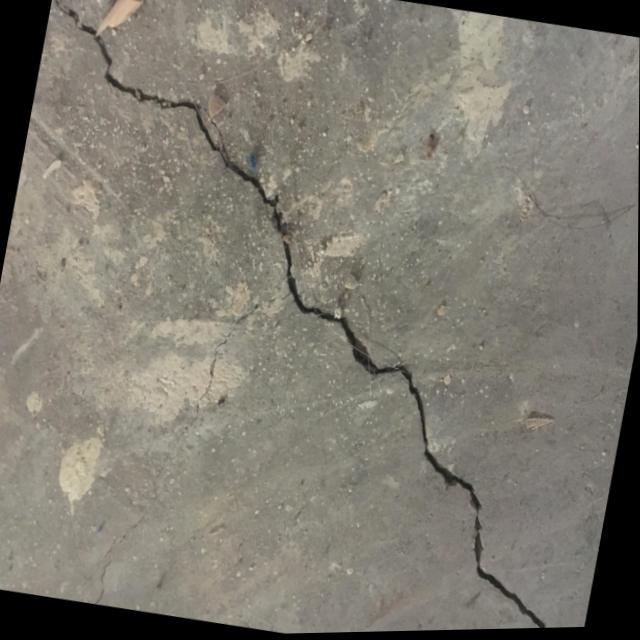Crack: (181, 140, 455, 399), (27, 0, 249, 165), (373, 373, 517, 586), (456, 563, 593, 632)
